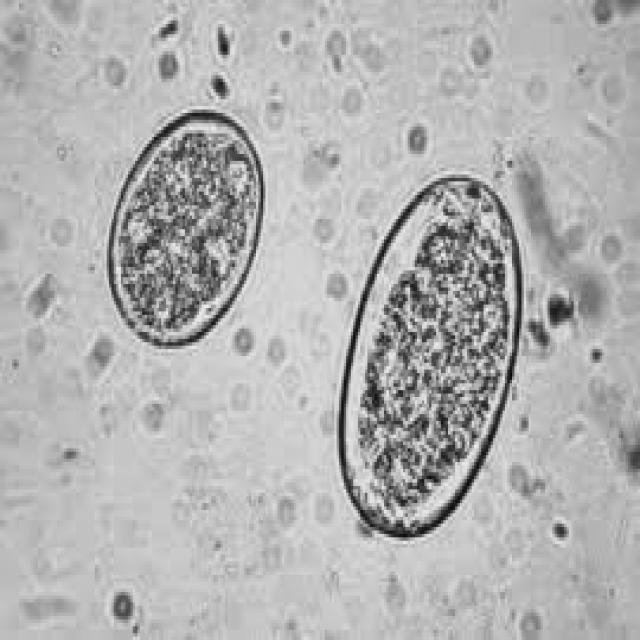Ancylostoma Spp: (329, 164, 531, 551), (107, 103, 268, 359)
